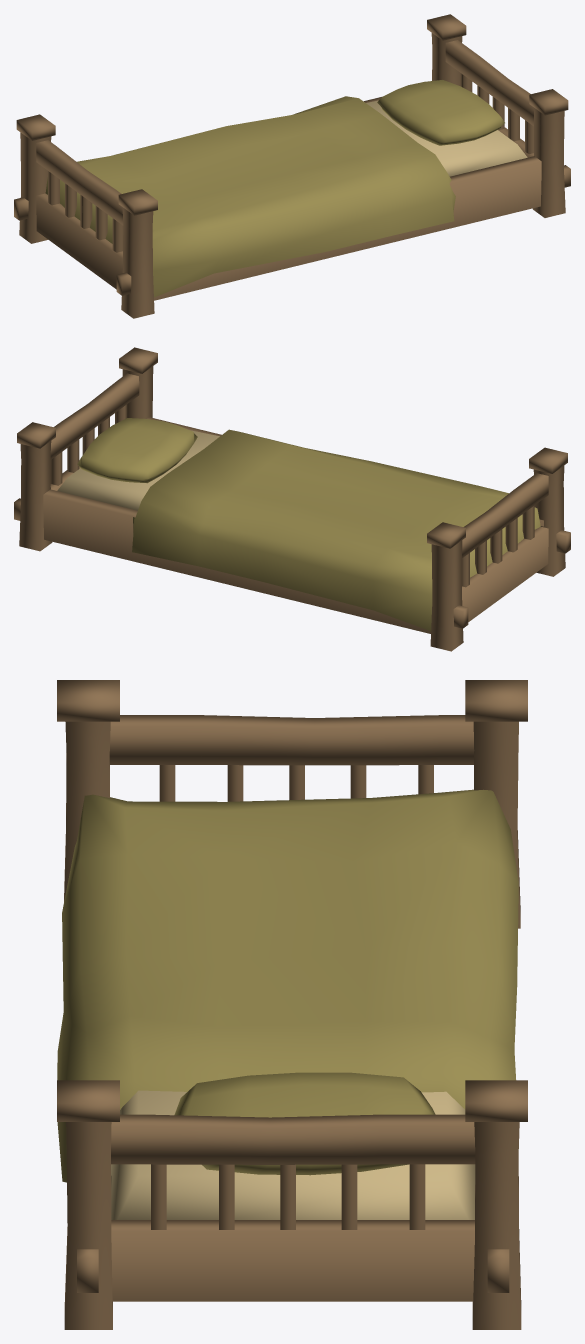
Rendered from rpgpp_ag_bed_01b.fbx.
3 views of the same model, one above another, from view 1: azimuth 30°, elevation 25°; view 2: azimuth 150°, elevation 25°; view 3: azimuth 270°, elevation 25° (orthographic). The views are drawn at different scales.
Parts seen in each view (by area): view 1: rpgpp_ag_bed_01b; view 2: rpgpp_ag_bed_01b; view 3: rpgpp_ag_bed_01b.
Boxes of the visible parts, x1,y1,x2,y2 form: rpgpp_ag_bed_01b: (14, 14, 570, 318); rpgpp_ag_bed_01b: (14, 347, 570, 651); rpgpp_ag_bed_01b: (57, 680, 527, 1329).
Bounding box in the file's own units: 2.74 × 0.6644 × 1.25.
